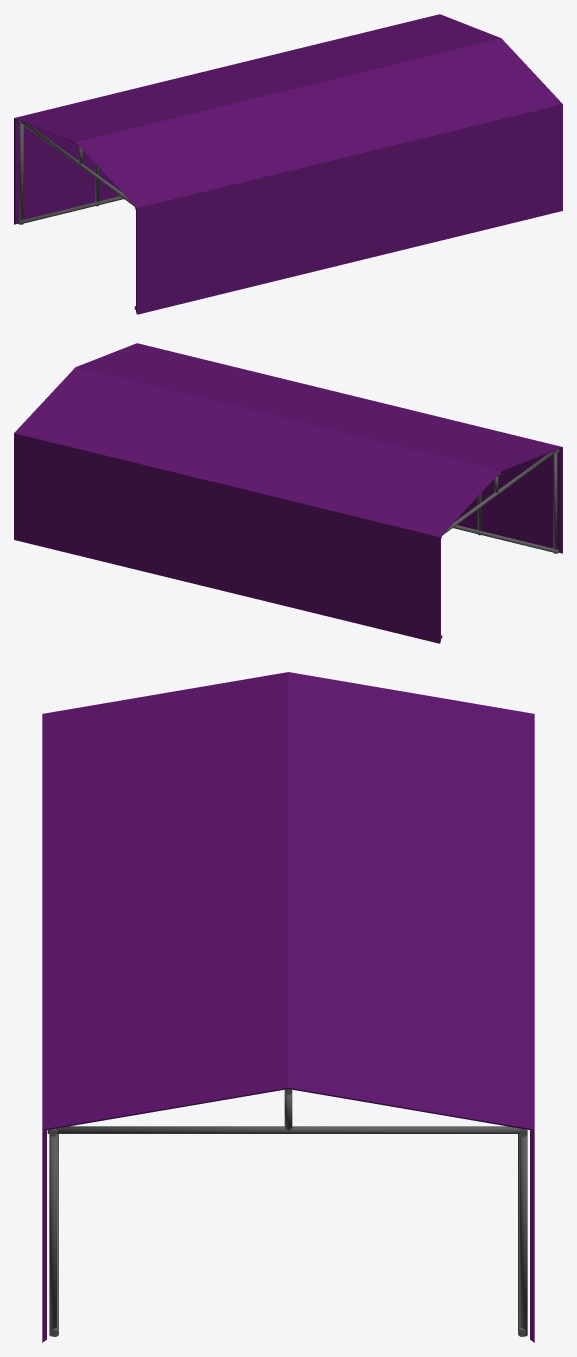
Rendered from Gecit_02.fbx.
The picture shows the model from 3 angles, top to bottom: view 1: azimuth 30°, elevation 25°; view 2: azimuth 150°, elevation 25°; view 3: azimuth 270°, elevation 25°; orthographic projection. The views are drawn at different scales.
Parts seen in each view (by area): view 1: Gecit; view 2: Gecit; view 3: Gecit.
Part boxes in pixels (x1,y1,x2,y2): Gecit: [14, 14, 562, 314]; Gecit: [14, 343, 562, 643]; Gecit: [42, 672, 534, 1342].
Bounding box in the file's own units: 1011 × 290 × 506.
